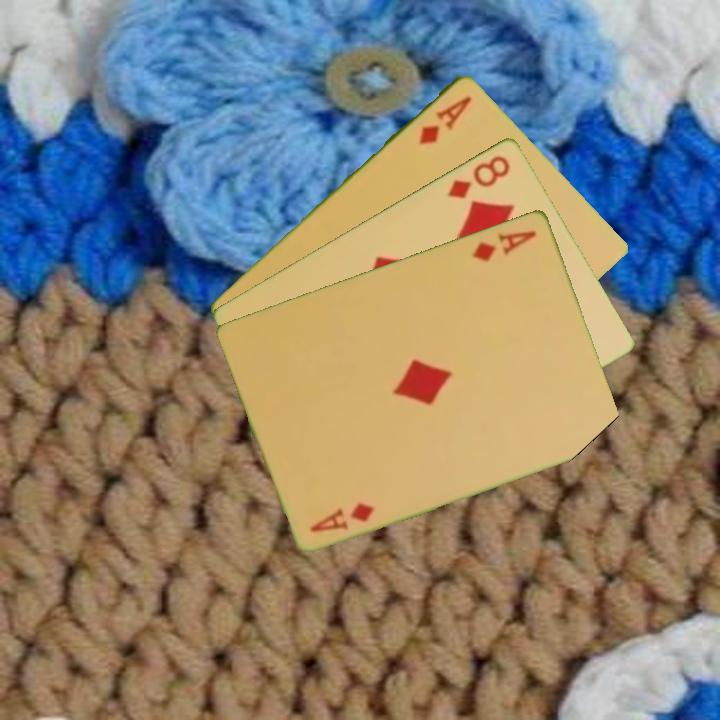8d: (443, 151, 513, 202)
Ad: (415, 91, 475, 147), (469, 226, 540, 264), (307, 498, 378, 535)
